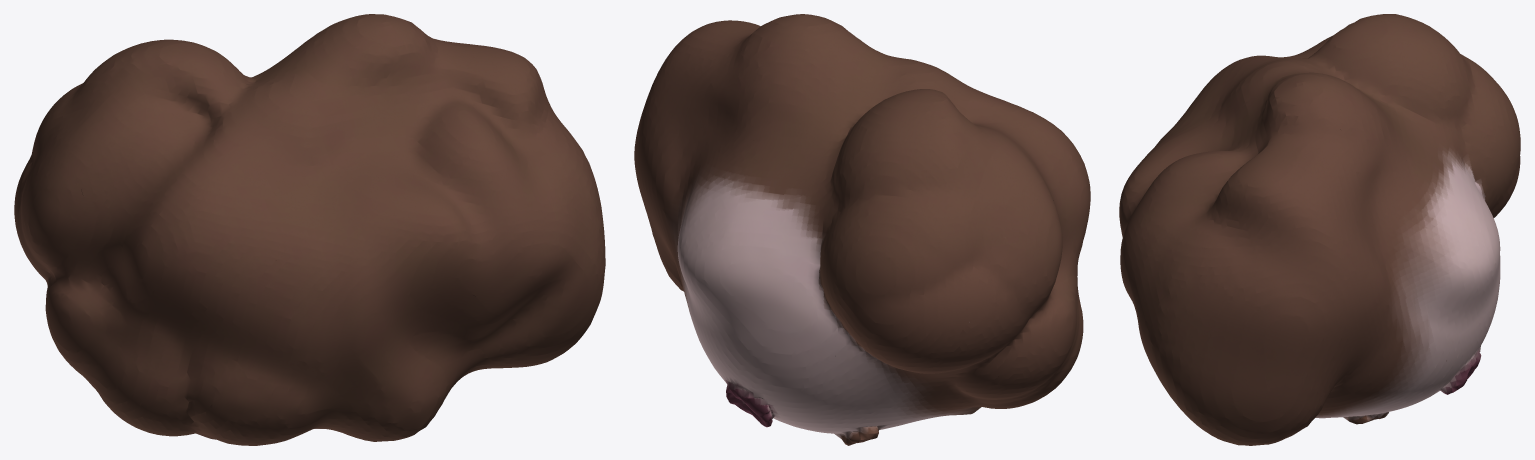
Rendered from chloe-head.gltf.
3 renders of one model, left to right at view 1: azimuth 30°, elevation 25°; view 2: azimuth 150°, elevation 25°; view 3: azimuth 270°, elevation 25°, orthographic. The views are drawn at different scales.
Visible parts, largest first — view 1: Layer_1; view 2: Layer_1; view 3: Layer_1.
Part boxes in pixels (left/top/right/bottom): Layer_1: left=14, top=14, right=605, bottom=445; Layer_1: left=634, top=14, right=1090, bottom=445; Layer_1: left=1119, top=14, right=1520, bottom=445.
Size of the model in its own units: 67.84 by 51.83 by 53.62.
1 material, 1 textured.
